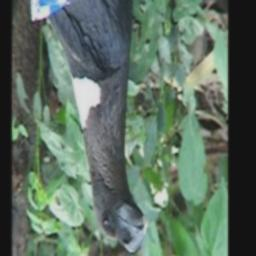Crow: (37, 0, 149, 252)
